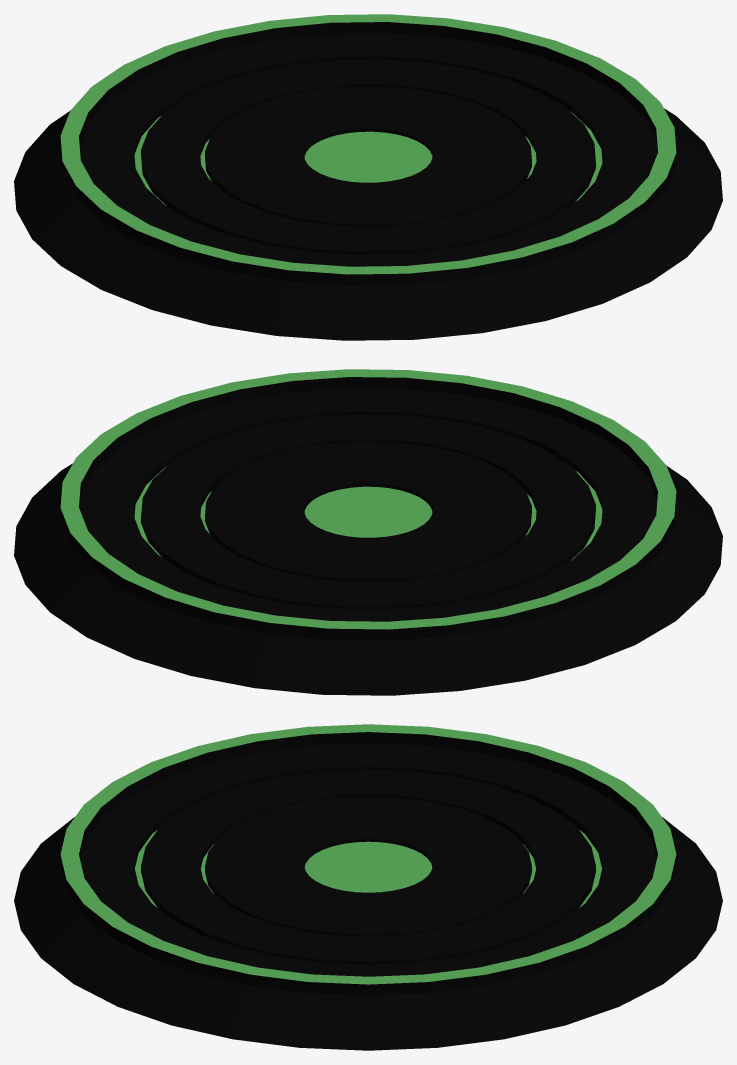
The model's file is tableg.glb.
3 renders of one model, top to bottom at view 1: azimuth 30°, elevation 25°; view 2: azimuth 150°, elevation 25°; view 3: azimuth 270°, elevation 25°, orthographic.
Parts seen in each view (by area): view 1: Circle; view 2: Circle; view 3: Circle.
Boxes of the visible parts, x1,y1,x2,y2 form: Circle: (14, 14, 722, 340); Circle: (14, 369, 722, 695); Circle: (14, 724, 722, 1050).
Bounding box in the file's own units: 2 × 0.1448 × 2.
Materials: 1 (1 with a texture image).
